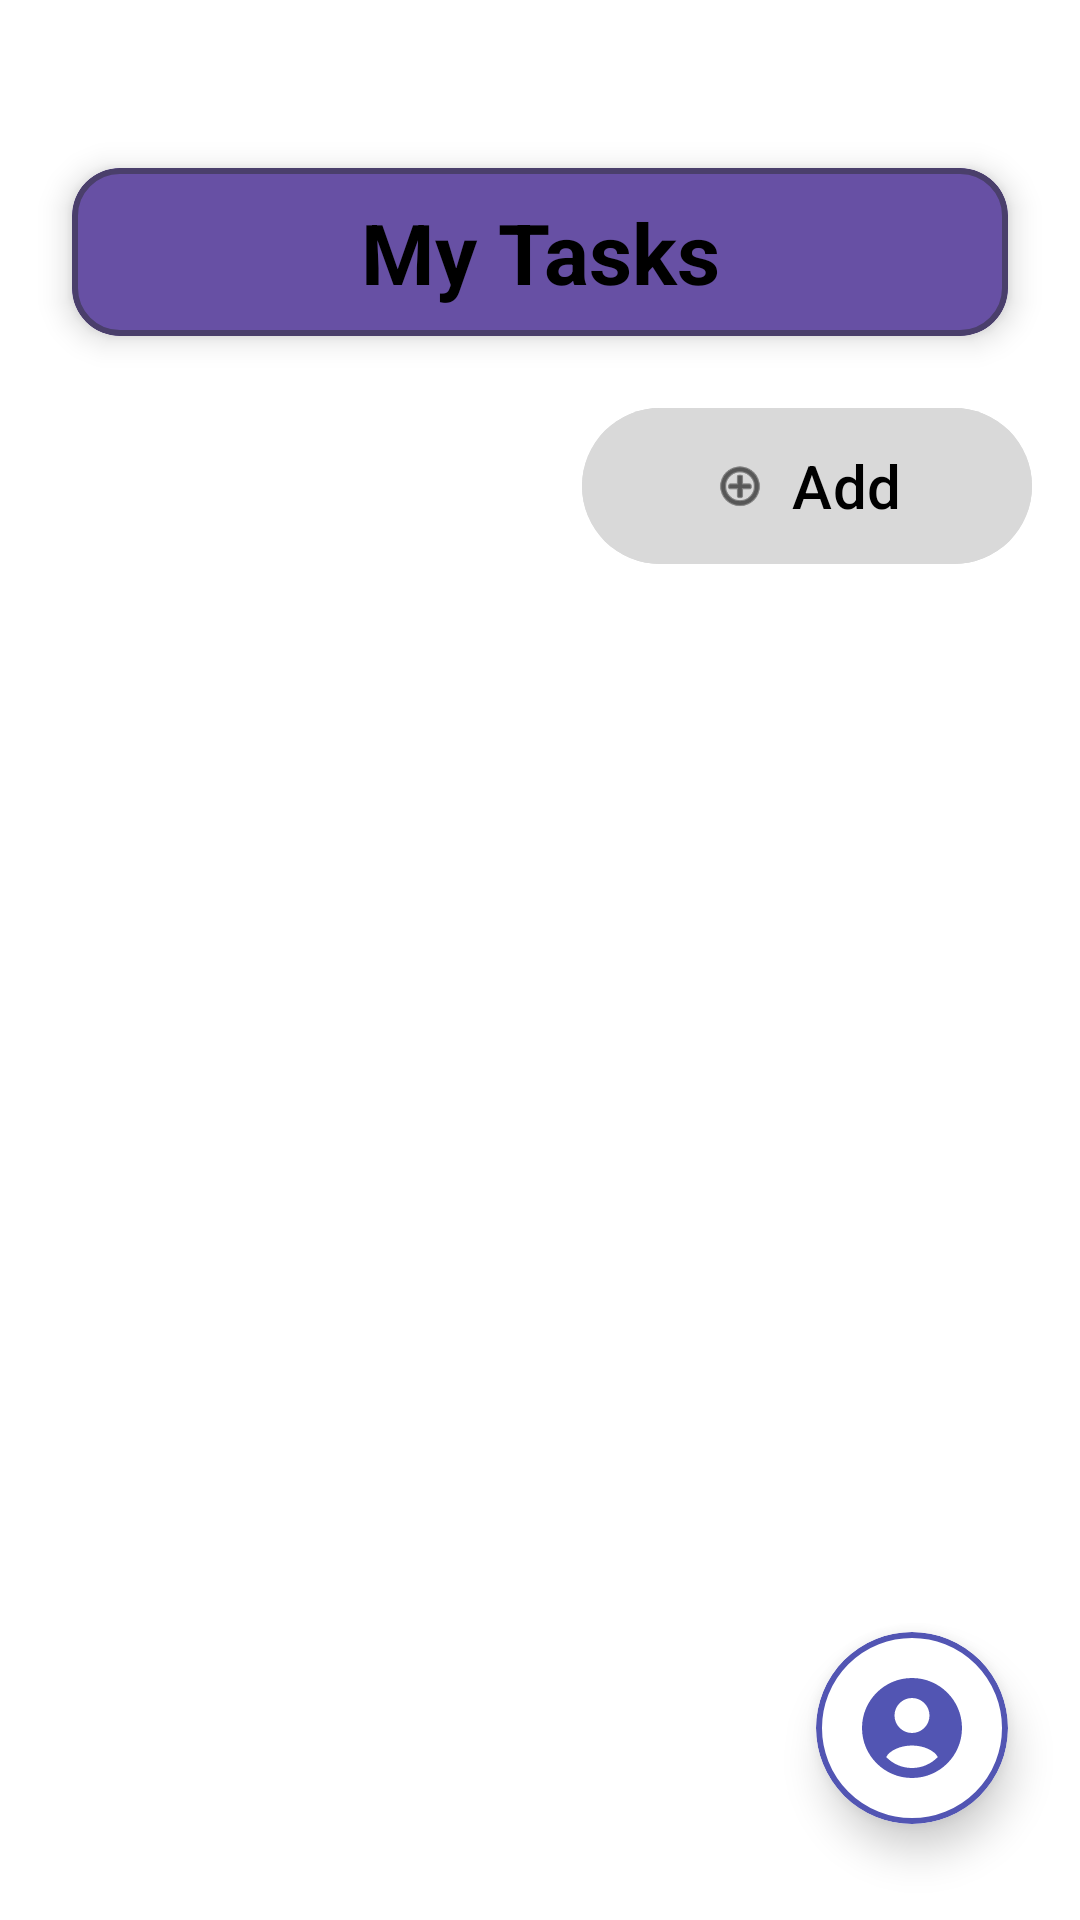

Screen size 1080x1920. Icon name, then its box in pixels as rect(x1, y1, x2, y2):
Profile: rect(862, 1678, 962, 1778)
